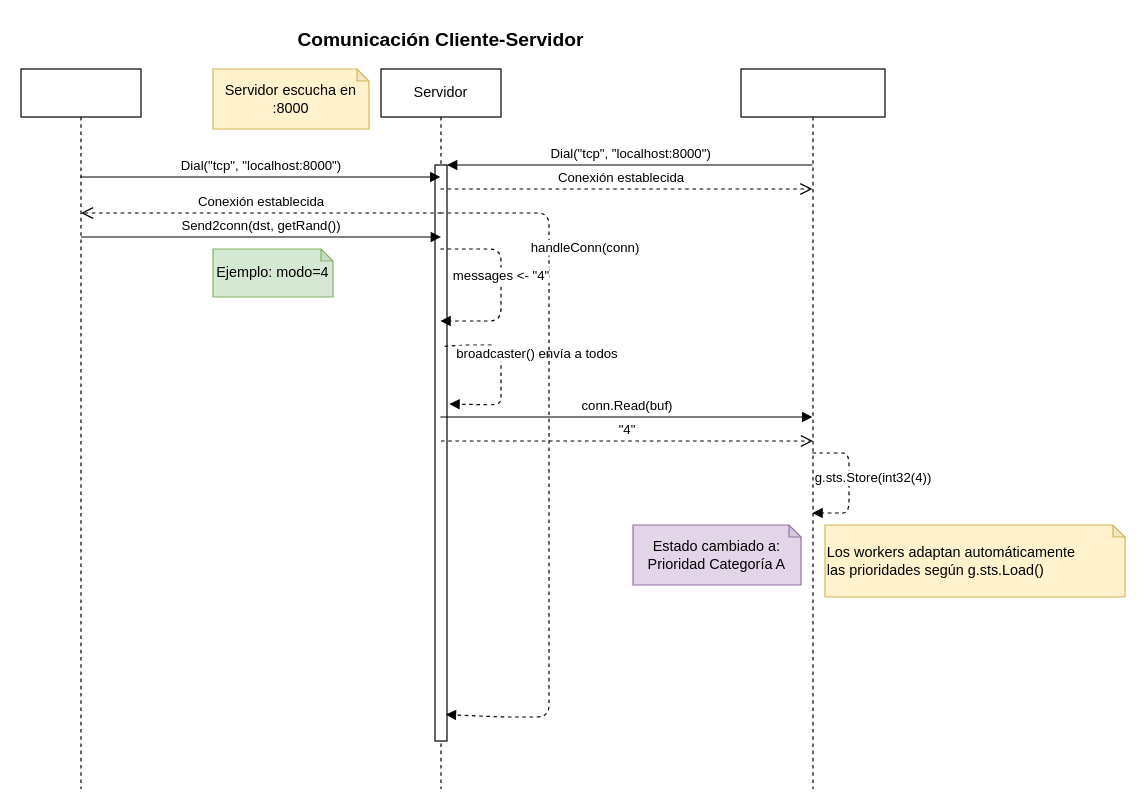
The diagram is 1146 pixels wide and 810 high, and some of its shapes have lost their labels. Here are the shapes that lost their labels. From the top down, the box of each, then its label:
(20, 68, 141, 789): Mutua
(740, 68, 885, 789): Taller (Cliente)
